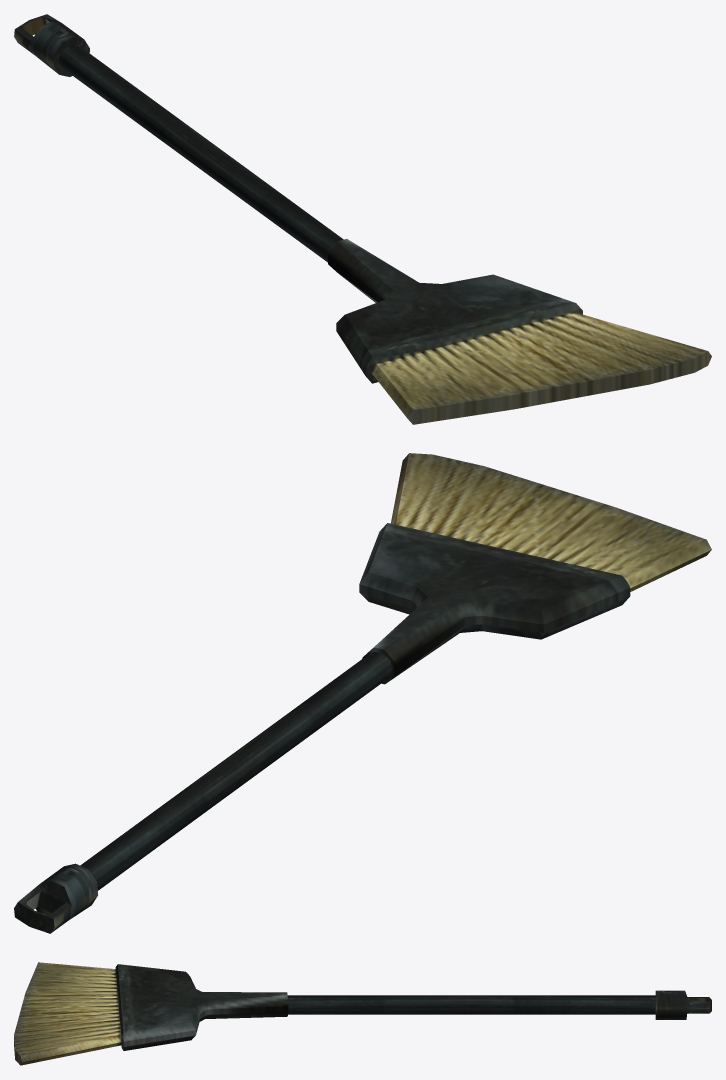
File: broom-2.FBX
3 renders of one model, top to bottom at view 1: azimuth 30°, elevation 25°; view 2: azimuth 150°, elevation 25°; view 3: azimuth 270°, elevation 25°, orthographic. The views are drawn at different scales.
Parts seen in each view (by area): view 1: broom-2; view 2: broom-2; view 3: broom-2.
Part boxes in pixels (<box>): broom-2: <box>14,14,711,424</box>; broom-2: <box>14,453,711,933</box>; broom-2: <box>14,962,711,1065</box>.
Size of the model in its own units: 16.92 by 2.16 by 51.59.
